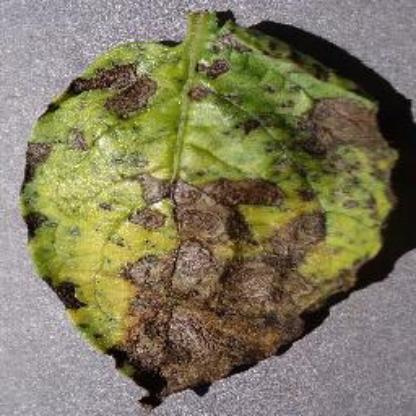Early-Blight: (20, 7, 404, 409)
